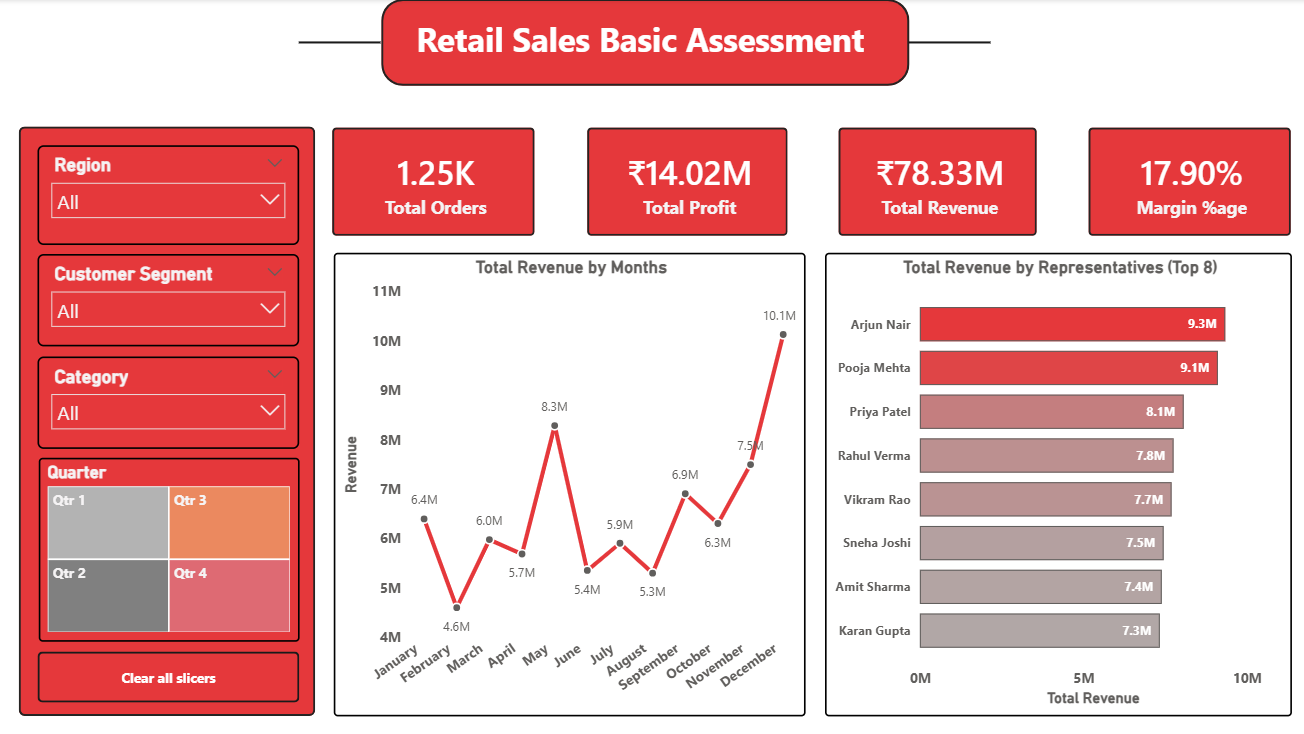

The page's visual inventory and layout, read from the dashboard file:
{"tool":"powerbi","page":{"name":"Basic Assessment","canvas":[1280,720],"ordinal":0},"visuals":[{"type":"shape","box":[372.5,0,516.7,85],"z":0},{"type":"textbox","box":[402.3,12.2,497.7,73.4],"z":1000},{"type":"cardVisual","fields":{"Data":["retail_sales_final.Total Orders"]},"box":[308.8,108.8,232.5,140],"z":2000},{"type":"cardVisual","fields":{"Data":["retail_sales_final.Total Profit"]},"box":[557.1,108.8,230,140],"z":3000},{"type":"cardVisual","fields":{"Data":["retail_sales_final.Total Revenue"]},"box":[802.9,108.8,228.8,140],"z":4000},{"type":"cardVisual","fields":{"Data":["retail_sales_final.Profit Margin %age"]},"box":[1047.5,108.8,232.5,140],"z":5000},{"type":"shape","box":[18.3,125,290,576.7],"z":6000},{"type":"slicer","fields":{"Values":["retail_sales_final.region"]},"box":[36.2,142.5,256.2,97.5],"z":7000},{"type":"lineChart","title":"Total Revenue by Months","fields":{"Y":["retail_sales_final.Total Revenue"],"Category":["retail_sales_final.order_date.Variation.Date Hierarchy.Month"]},"box":[326.7,248.3,461.7,453.3],"z":8000},{"type":"clusteredBarChart","title":"Total Revenue by Representatives (Top 8)","fields":{"Y":["retail_sales_final.Total Revenue"],"Category":["retail_sales_final.sales_rep"]},"box":[806.7,248.3,456.7,453.3],"z":9000},{"type":"slicer","fields":{"Values":["retail_sales_final.customer_segment"]},"box":[36.2,249.7,256.2,90],"z":10000},{"type":"slicer","fields":{"Values":["retail_sales_final.category"]},"box":[36.2,349.4,256.2,90],"z":11000},{"type":"treemap","title":"Quarter","fields":{"Group":["retail_sales_final.order_date.Variation.Date Hierarchy.Quarter"],"Values":["Count(retail_sales_final.order_date.Variation.Date Hierarchy.Quarter)"]},"box":[37.5,449.1,255,180],"z":12000},{"type":"actionButton","box":[36.2,638.8,256.2,50],"z":13000},{"type":"shape","box":[292.5,0,80,85],"z":14000},{"type":"shape","box":[888.8,0,80,85],"z":15000}]}

Visuals, with their boxes in screenshot pixels (x1, y1, x2, y2), scaled from the page's 1280x720 canvas onto the 1304x734 screenshot:
shape: {"x1": 379, "y1": 0, "x2": 906, "y2": 87}
textbox: {"x1": 410, "y1": 12, "x2": 917, "y2": 87}
cardVisual - retail_sales_final.Total Orders: {"x1": 315, "y1": 111, "x2": 551, "y2": 254}
cardVisual - retail_sales_final.Total Profit: {"x1": 568, "y1": 111, "x2": 802, "y2": 254}
cardVisual - retail_sales_final.Total Revenue: {"x1": 818, "y1": 111, "x2": 1051, "y2": 254}
cardVisual - retail_sales_final.Profit Margin %age: {"x1": 1067, "y1": 111, "x2": 1303, "y2": 254}
shape: {"x1": 19, "y1": 127, "x2": 314, "y2": 715}
slicer - retail_sales_final.region: {"x1": 37, "y1": 145, "x2": 298, "y2": 245}
"Total Revenue by Months" lineChart: {"x1": 333, "y1": 253, "x2": 803, "y2": 715}
"Total Revenue by Representatives (Top 8)" clusteredBarChart: {"x1": 822, "y1": 253, "x2": 1287, "y2": 715}
slicer - retail_sales_final.customer_segment: {"x1": 37, "y1": 255, "x2": 298, "y2": 346}
slicer - retail_sales_final.category: {"x1": 37, "y1": 356, "x2": 298, "y2": 448}
"Quarter" treemap: {"x1": 38, "y1": 458, "x2": 298, "y2": 641}
actionButton: {"x1": 37, "y1": 651, "x2": 298, "y2": 702}
shape: {"x1": 298, "y1": 0, "x2": 379, "y2": 87}
shape: {"x1": 905, "y1": 0, "x2": 987, "y2": 87}
